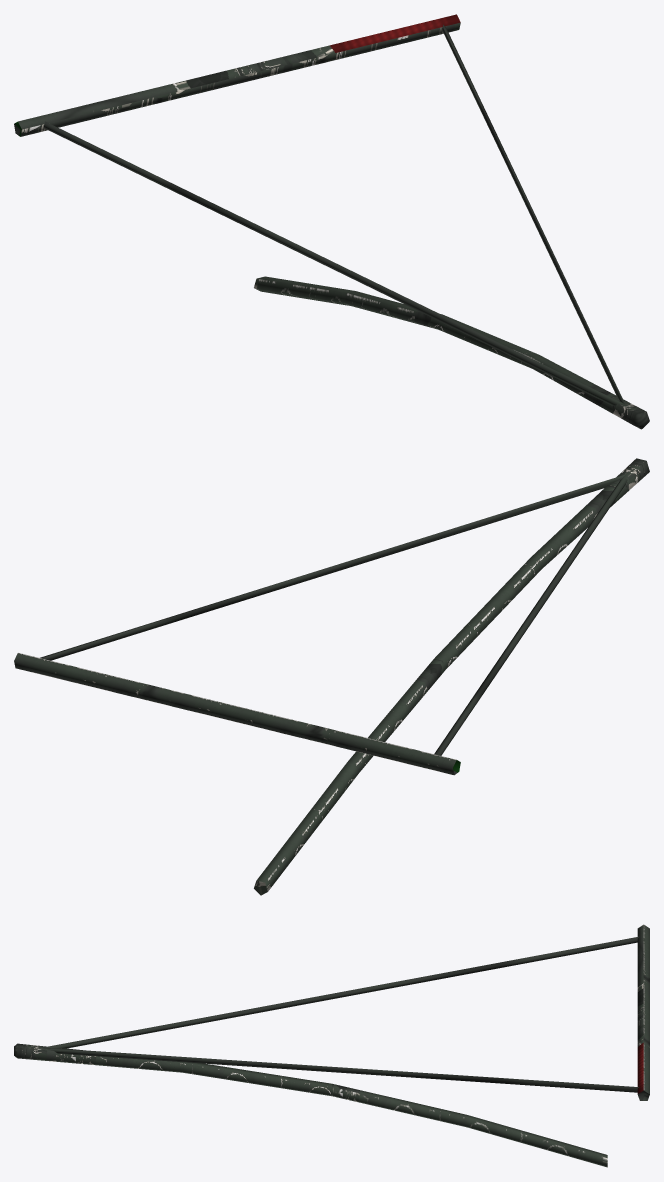
The model's file is SupportBeam_Short.fbx.
3 views of the same model, one above another, from view 1: azimuth 30°, elevation 25°; view 2: azimuth 150°, elevation 25°; view 3: azimuth 270°, elevation 25° (orthographic). The views are drawn at different scales.
Parts seen in each view (by area): view 1: SupportBeam_Short; view 2: SupportBeam_Short; view 3: SupportBeam_Short.
Boxes of the visible parts, bbox=[...] form: SupportBeam_Short: bbox=[14, 14, 649, 429]; SupportBeam_Short: bbox=[14, 458, 649, 895]; SupportBeam_Short: bbox=[14, 924, 649, 1167].
Size of the model in its own units: 202 by 90.96 by 328.
